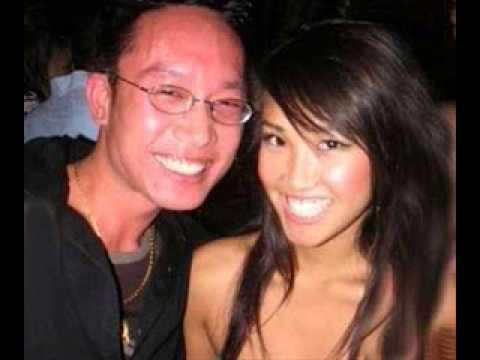Drunk: (121, 19, 243, 207), (263, 88, 376, 242)
